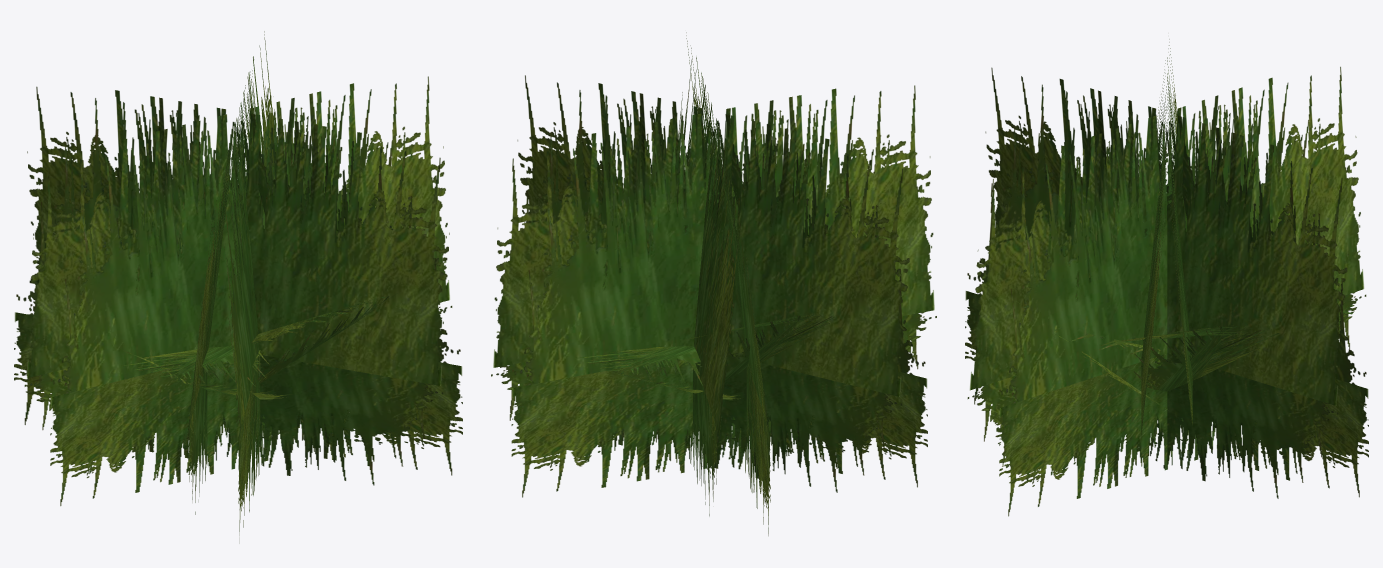
The model's file is grass03.glb.
3 views of the same model, side by side, from view 1: azimuth 30°, elevation 25°; view 2: azimuth 150°, elevation 25°; view 3: azimuth 270°, elevation 25° (orthographic).
Parts seen in each view (by area): view 1: Grass03; view 2: Grass03; view 3: Grass03.
Boxes of the visible parts, <box> form: Grass03: <box>14,31,462,535</box>; Grass03: <box>491,32,936,535</box>; Grass03: <box>965,39,1368,516</box>.
Size of the model in its own units: 2.68 by 2.19 by 2.33.
1 material, 1 textured.
